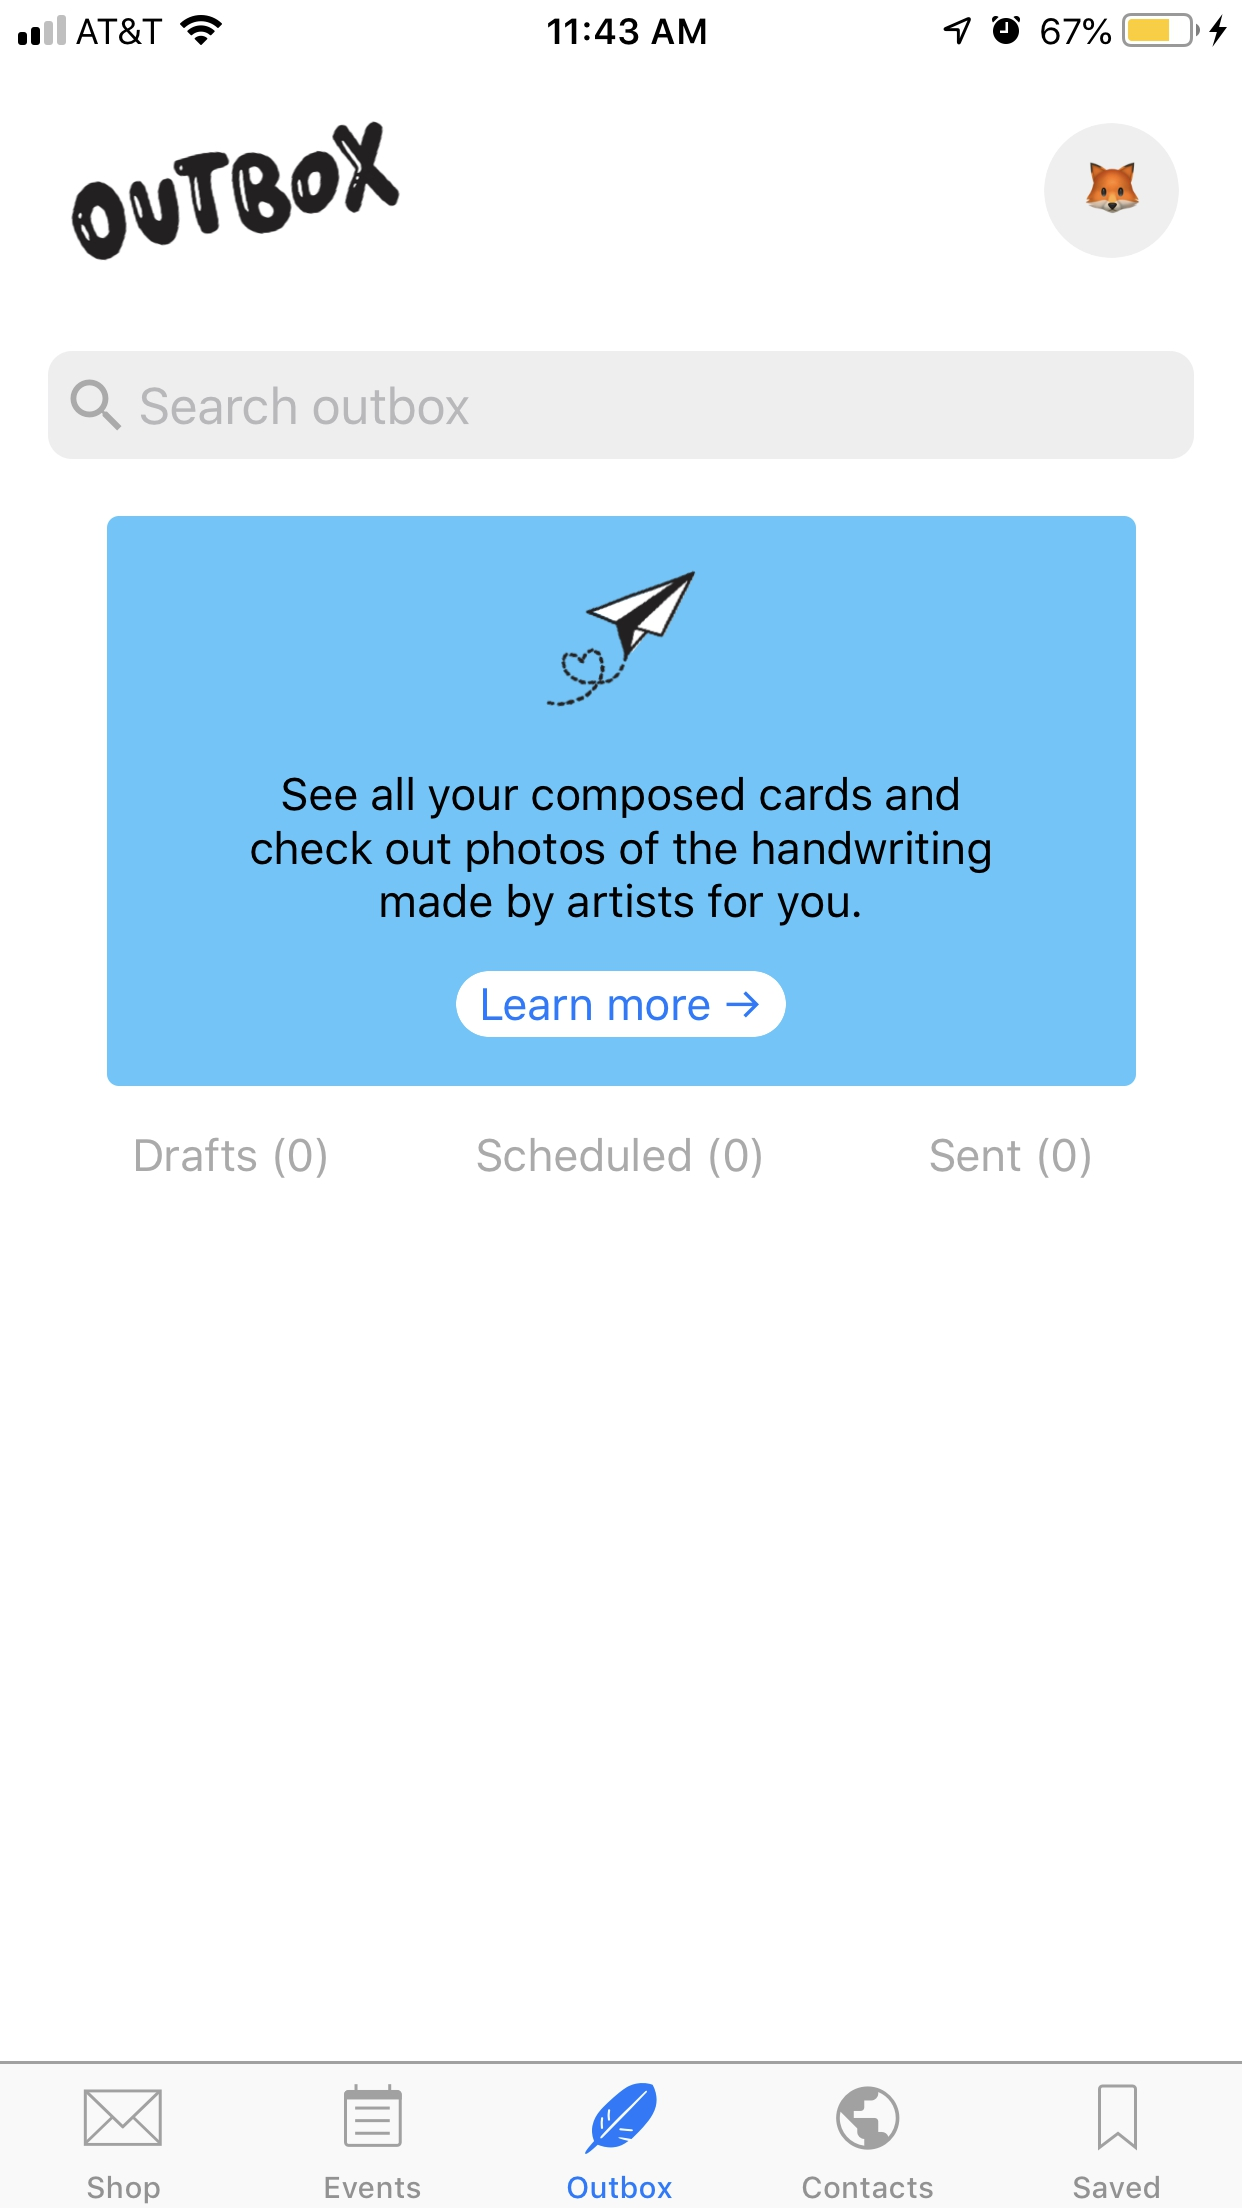EditText: (49, 350, 1195, 459)
Icon: (83, 2090, 162, 2147), (344, 2084, 403, 2147), (71, 379, 123, 432), (1098, 2084, 1137, 2150)
Image: (71, 121, 402, 261), (546, 572, 696, 710), (1043, 123, 1178, 259), (585, 2082, 658, 2153), (836, 2085, 899, 2150)
Text: (252, 776, 992, 928), (141, 387, 472, 426), (478, 1136, 763, 1178), (136, 1137, 328, 1180), (930, 1137, 1090, 1180), (804, 2175, 934, 2199), (569, 2175, 673, 2200), (325, 2176, 422, 2199), (86, 2175, 161, 2203), (1074, 2175, 1160, 2199)
TextButton: (456, 971, 789, 1039)
UpperTaskBar: (2, 2, 1242, 49)
